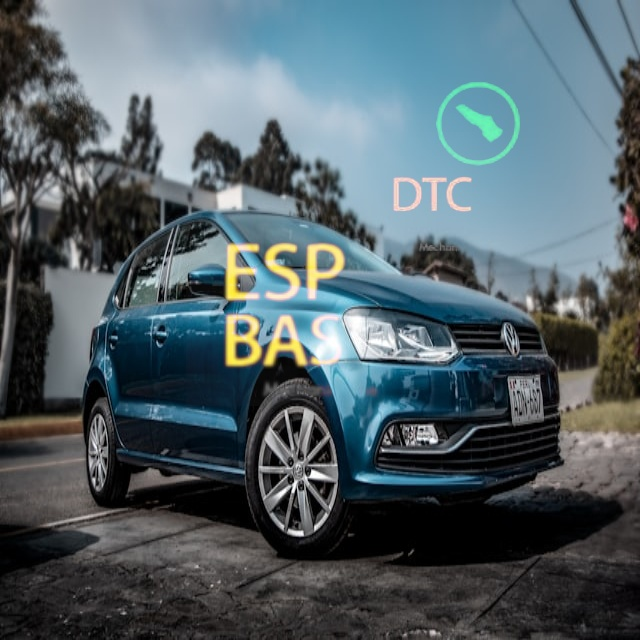symbol: (186, 207, 385, 406), (399, 42, 565, 208), (371, 134, 494, 257)
